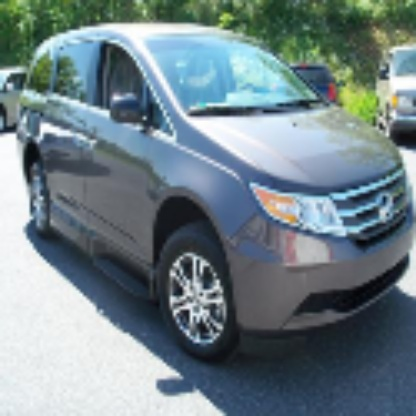Vehicle: (14, 26, 415, 372)
